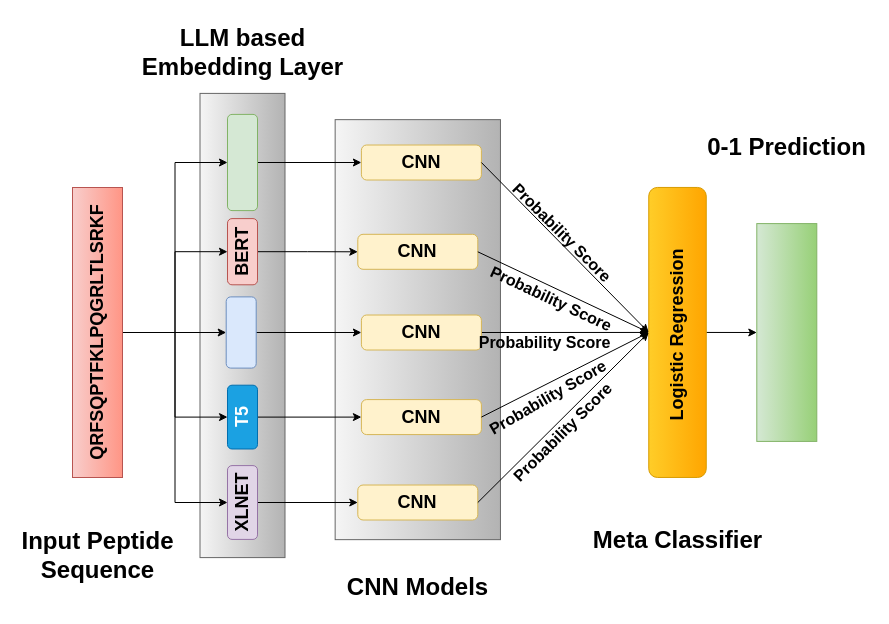
Some shapes in this 889 by 624 pixel diagram are drawn without their labels. The centre of each missing label's shape, as x and y in pixels:
BERT-BFD: (242,162)
Final Prediction: (786,332)
T5-BFD: (240,332)
